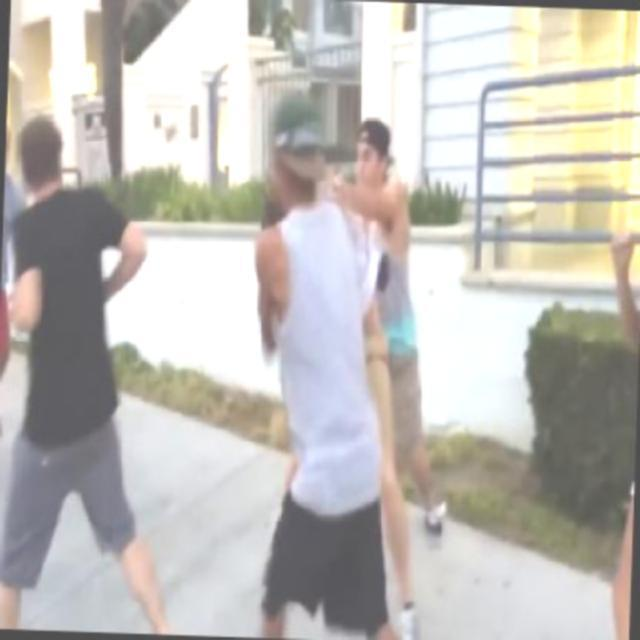fight: (222, 80, 462, 638)
